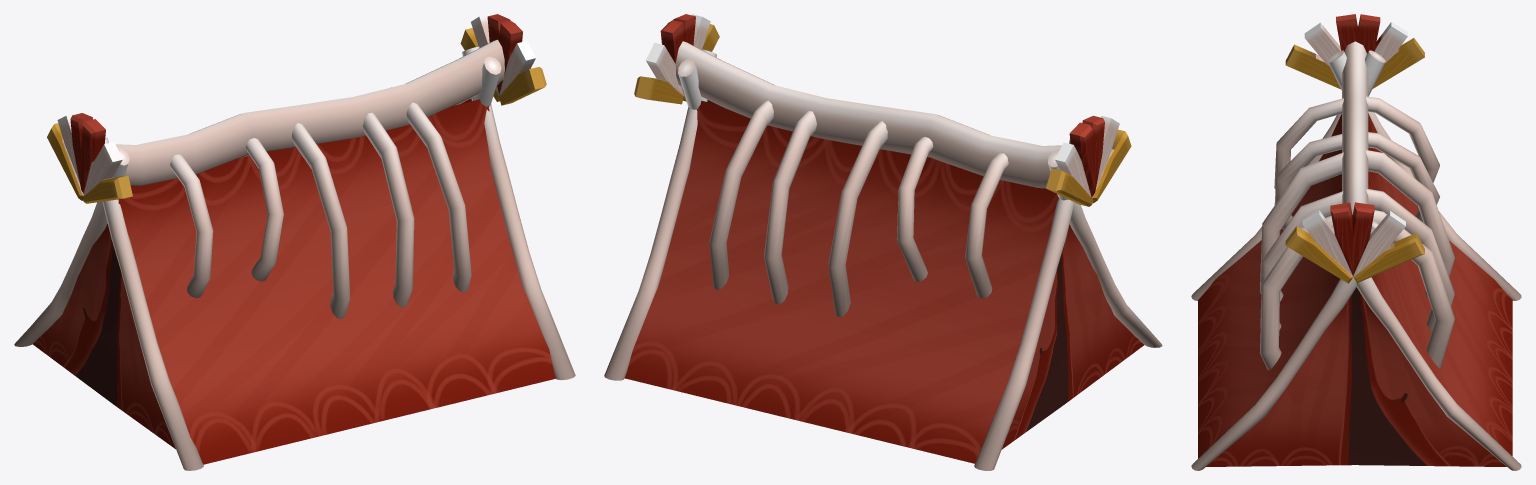
Rendered from Tent.fbx.
The picture shows the model from 3 angles, left to right: view 1: azimuth 30°, elevation 25°; view 2: azimuth 150°, elevation 25°; view 3: azimuth 270°, elevation 25°; orthographic projection. The views are drawn at different scales.
Visible parts, largest first — view 1: pCylinder12; view 2: pCylinder12; view 3: pCylinder12.
Boxes of the visible parts, box(x1,y1,x2,y2) form: pCylinder12: box(14, 14, 575, 470); pCylinder12: box(604, 14, 1162, 470); pCylinder12: box(1191, 14, 1521, 470).
Bounding box in the file's own units: 1831 × 1184 × 1304.
1 material, 1 textured.
